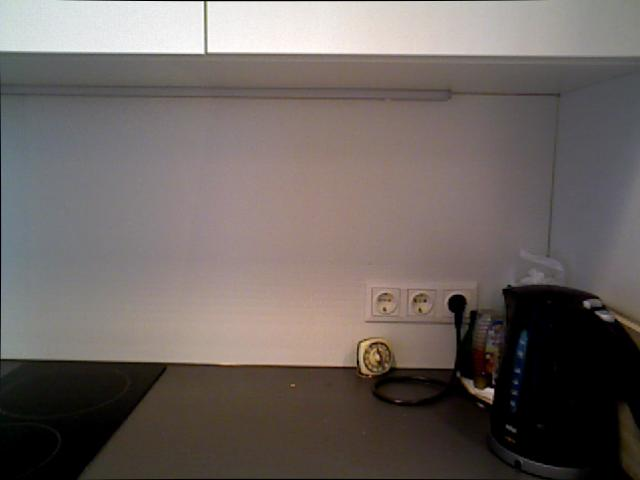clock: (354, 335, 397, 383)
